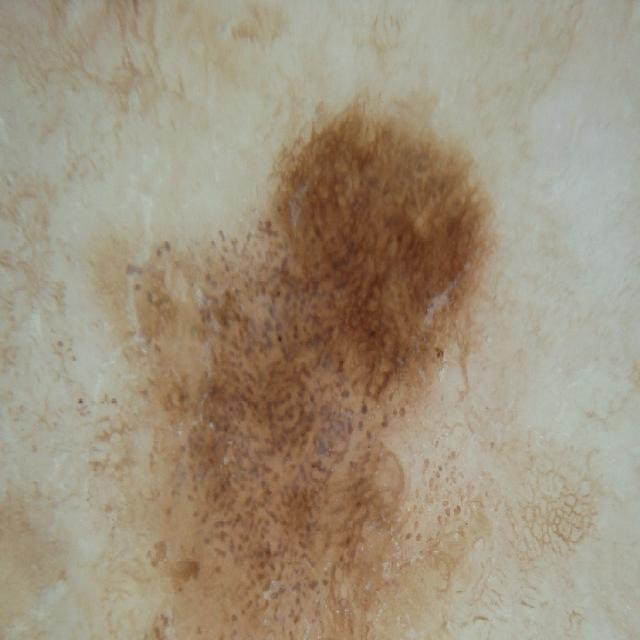Melanoma: (100, 86, 551, 640)
